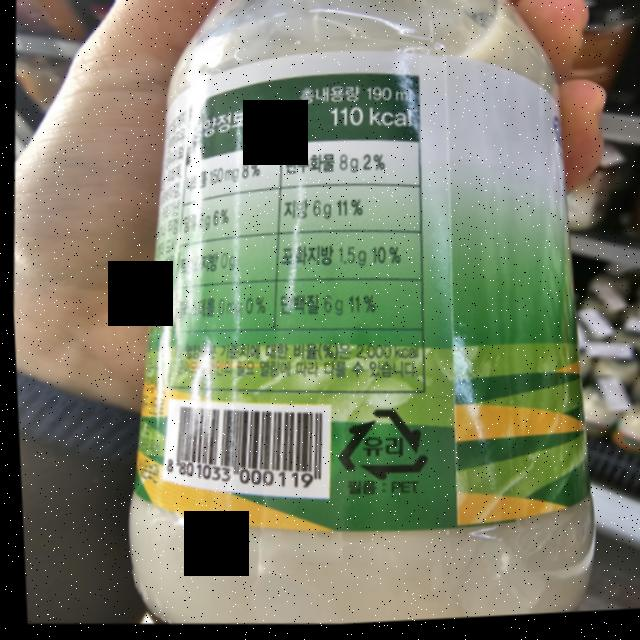Glass: (328, 403, 428, 488)
